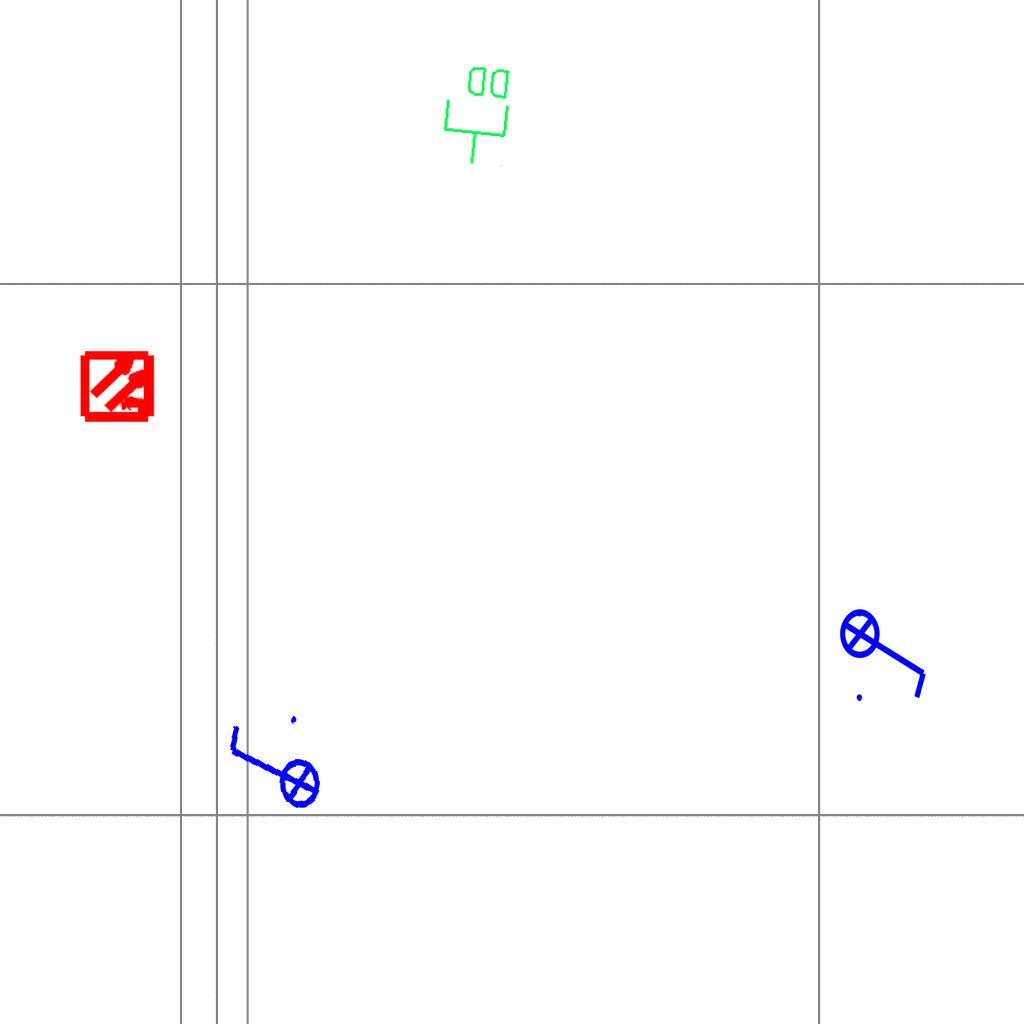Ausschalter_beleuchtet: (218, 708, 326, 830), (838, 595, 934, 707)
Datenanschluss_zweifach: (437, 59, 518, 170)
OT_Multisensormelder_(Kombination_RMO_WMD): (63, 330, 176, 443)
